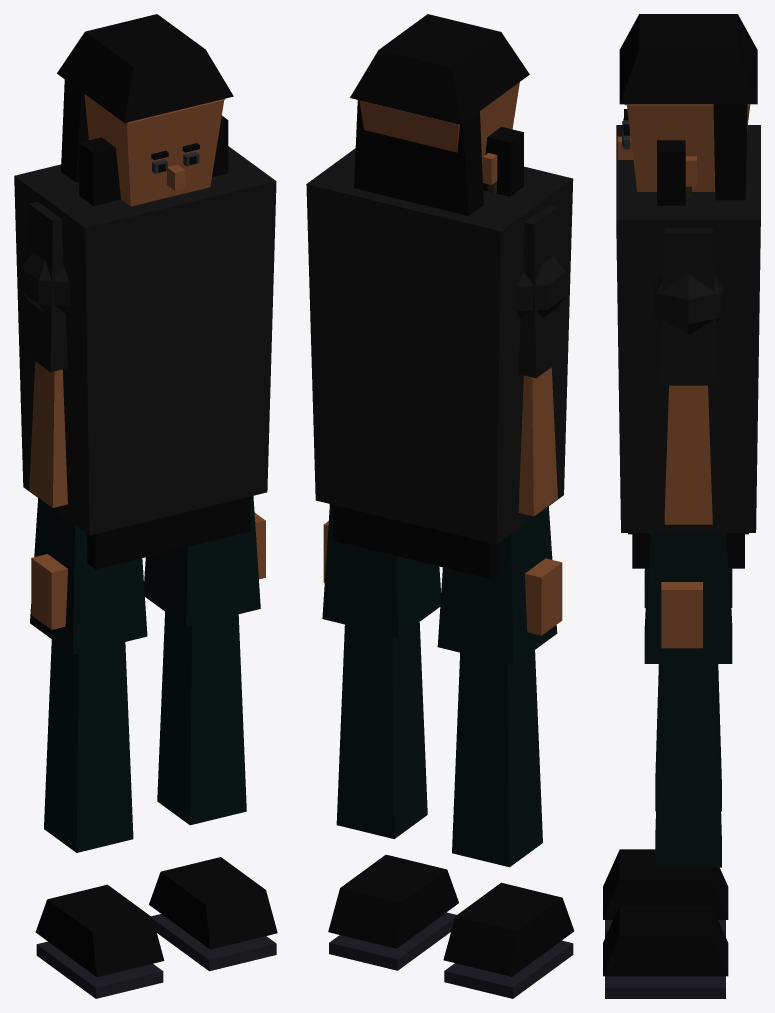
The model's file is npc_woman_standing_v12.glb.
3 views of the same model, side by side, from view 1: azimuth 30°, elevation 25°; view 2: azimuth 150°, elevation 25°; view 3: azimuth 270°, elevation 25° (orthographic).
Parts seen in each view (by area): view 1: torso, head, lowerLegL, lowerLegR, footR, footL, upperLegR, upperLegL, foreArmR, upperArmR, hips, foreArmL; view 2: torso, head, lowerLegL, lowerLegR, footR, footL, upperLegR, upperLegL, foreArmR, upperArmR, hips; view 3: torso, head, lowerLegL, footL, upperArmL, foreArmL, upperLegL, footR, hips, lowerLegR.
Part boxes in pixels (box(x1,y1,x2,y2)): torso: box(14, 146, 276, 535); head: box(57, 14, 233, 206); lowerLegL: box(157, 612, 246, 825); lowerLegR: box(44, 639, 133, 852); footR: box(35, 884, 164, 998); footL: box(149, 857, 277, 971); upperLegR: box(30, 498, 147, 654); upperLegL: box(144, 498, 260, 626); foreArmR: box(29, 361, 67, 629); upperArmR: box(20, 202, 70, 372); hips: box(86, 496, 253, 569); foreArmL: box(254, 513, 265, 579); torso: box(306, 148, 573, 544); head: box(350, 14, 529, 215); lowerLegL: box(336, 622, 427, 839); lowerLegR: box(452, 650, 542, 867); footR: box(443, 882, 574, 998); footL: box(328, 854, 458, 970); upperLegR: box(437, 506, 557, 665); upperLegL: box(322, 507, 441, 637); foreArmR: box(518, 367, 562, 635); upperArmR: box(516, 205, 566, 378); hips: box(329, 504, 499, 578); torso: box(616, 125, 760, 532); head: box(617, 14, 757, 205); lowerLegL: box(655, 664, 721, 867); footL: box(603, 905, 728, 998); upperArmL: box(653, 228, 723, 385); foreArmL: box(661, 385, 712, 648); upperLegL: box(644, 533, 732, 663); footR: box(603, 849, 728, 937); hips: box(628, 533, 748, 568); lowerLegR: box(655, 664, 721, 811).
Bounding box in the file's own units: 0.4823 × 1.78 × 0.2765.
